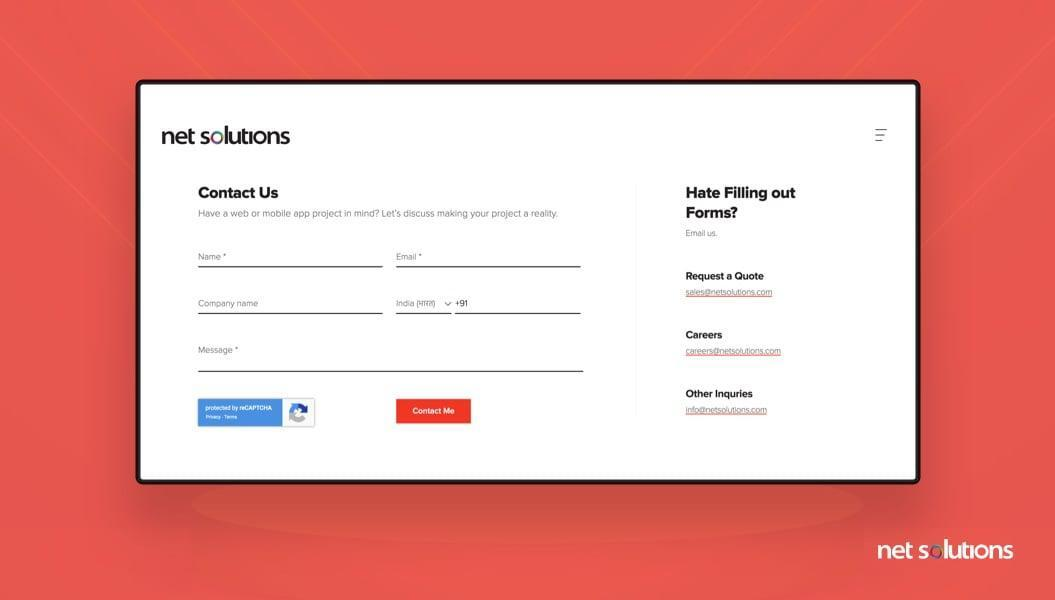button: (199, 399, 283, 427), (395, 399, 474, 426)
icon: (875, 127, 889, 144)
label: (683, 183, 802, 220), (198, 209, 562, 221), (162, 126, 300, 152), (196, 184, 286, 204), (685, 270, 768, 282), (686, 389, 762, 401), (685, 332, 727, 340)
